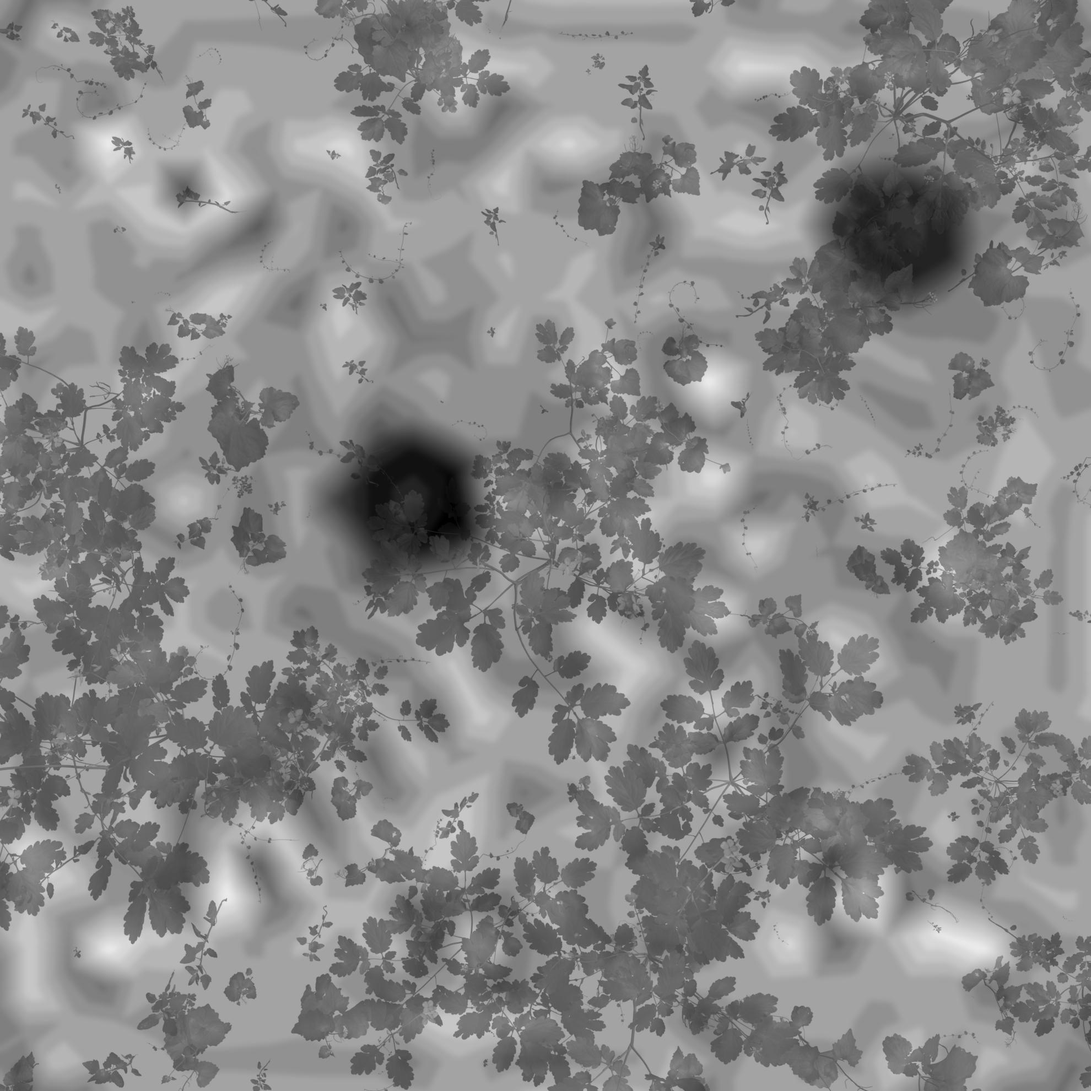landmine: (333, 433, 491, 580), (824, 161, 971, 300)
